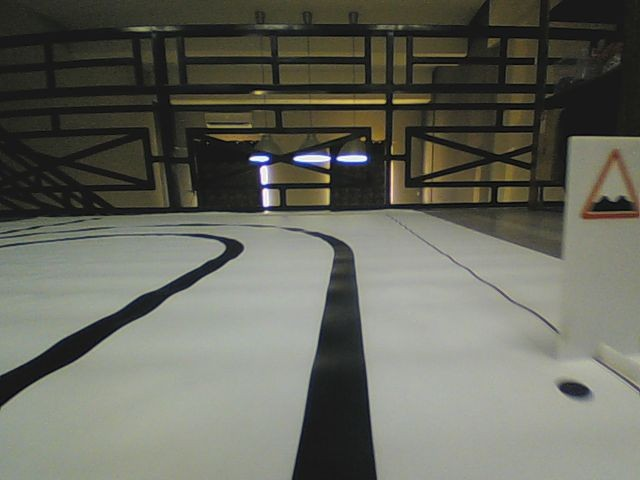Nerov: (580, 147, 640, 221)
